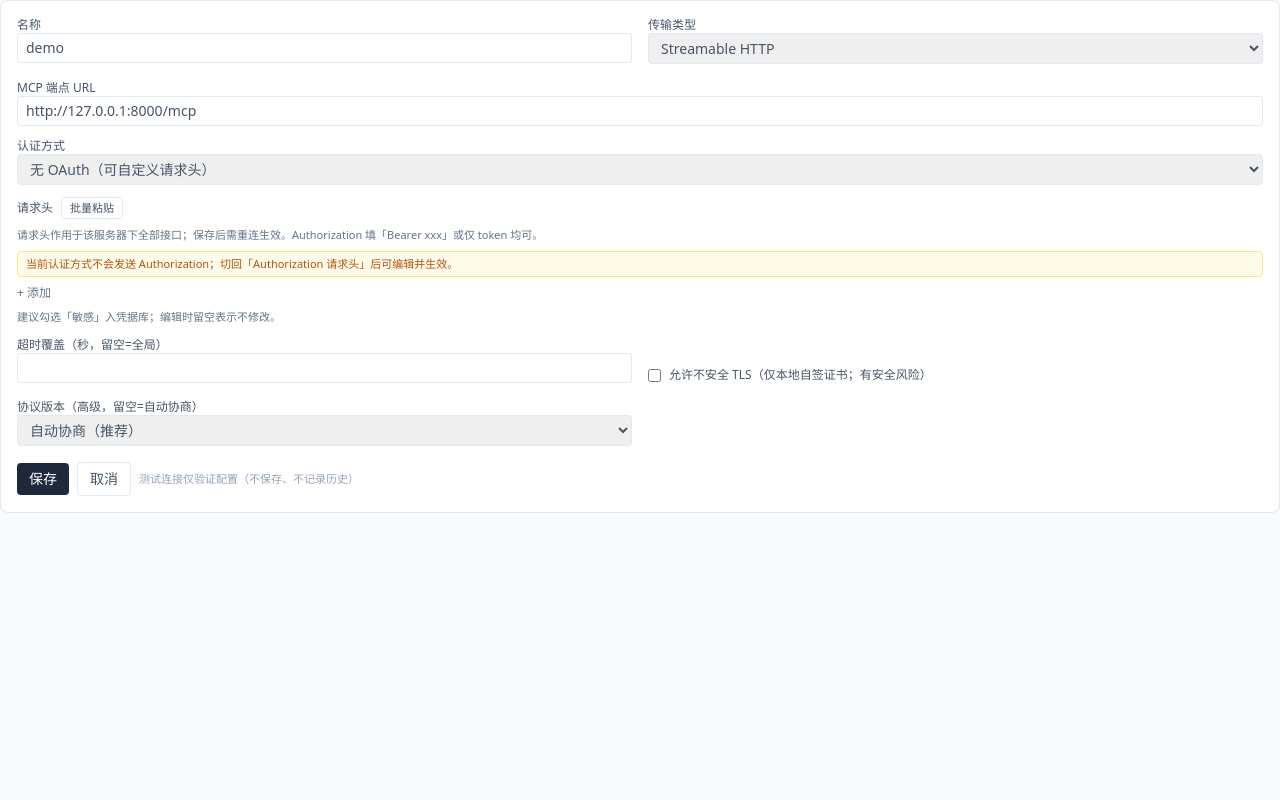
ServerForm 敏感值掩码防护（v0.1.1/v0.1.2） › 批量粘贴请求头并自动标记敏感（v0.6.1）
Step 1. Click the button "批量粘贴" → (92, 208), box [61,197,123,219]
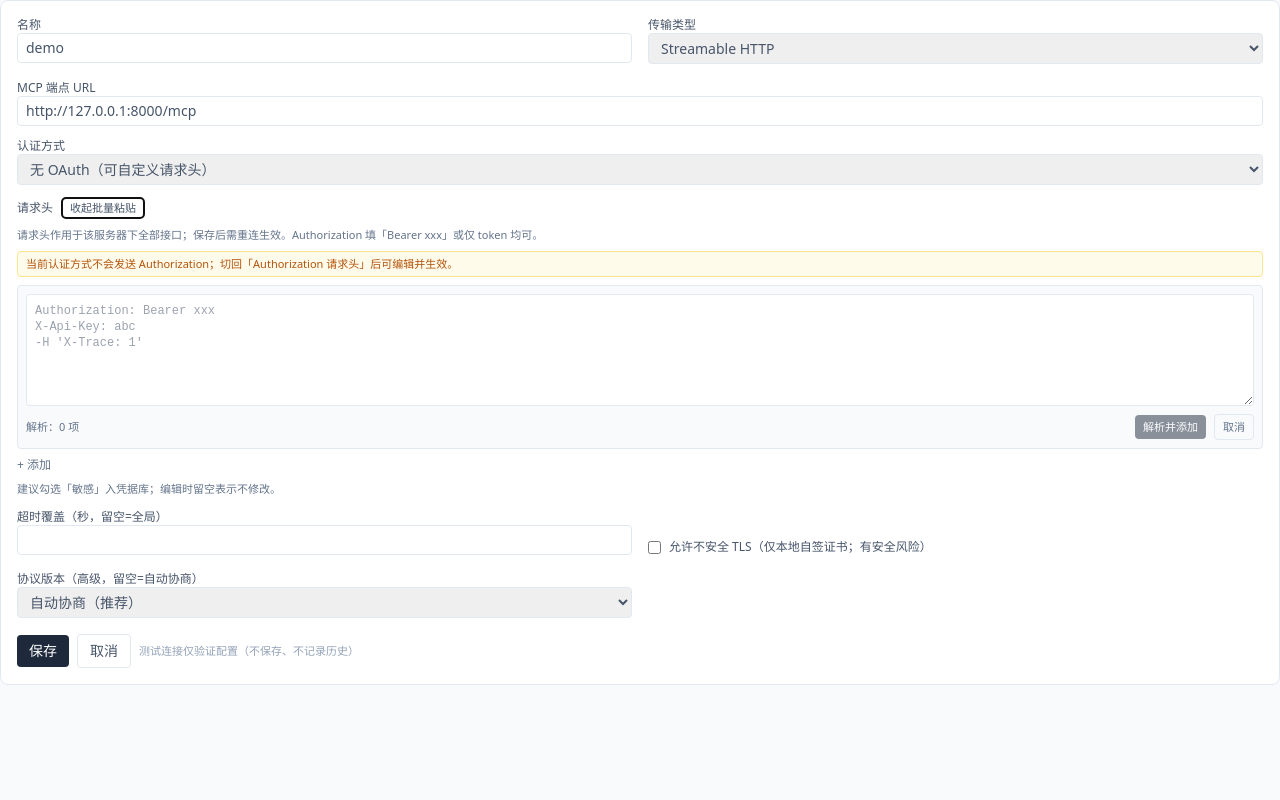
Step 2. Type "X-Api-Key: abc" into the text box named "批量粘贴请求头" → (640, 350), box [26,294,1254,406]
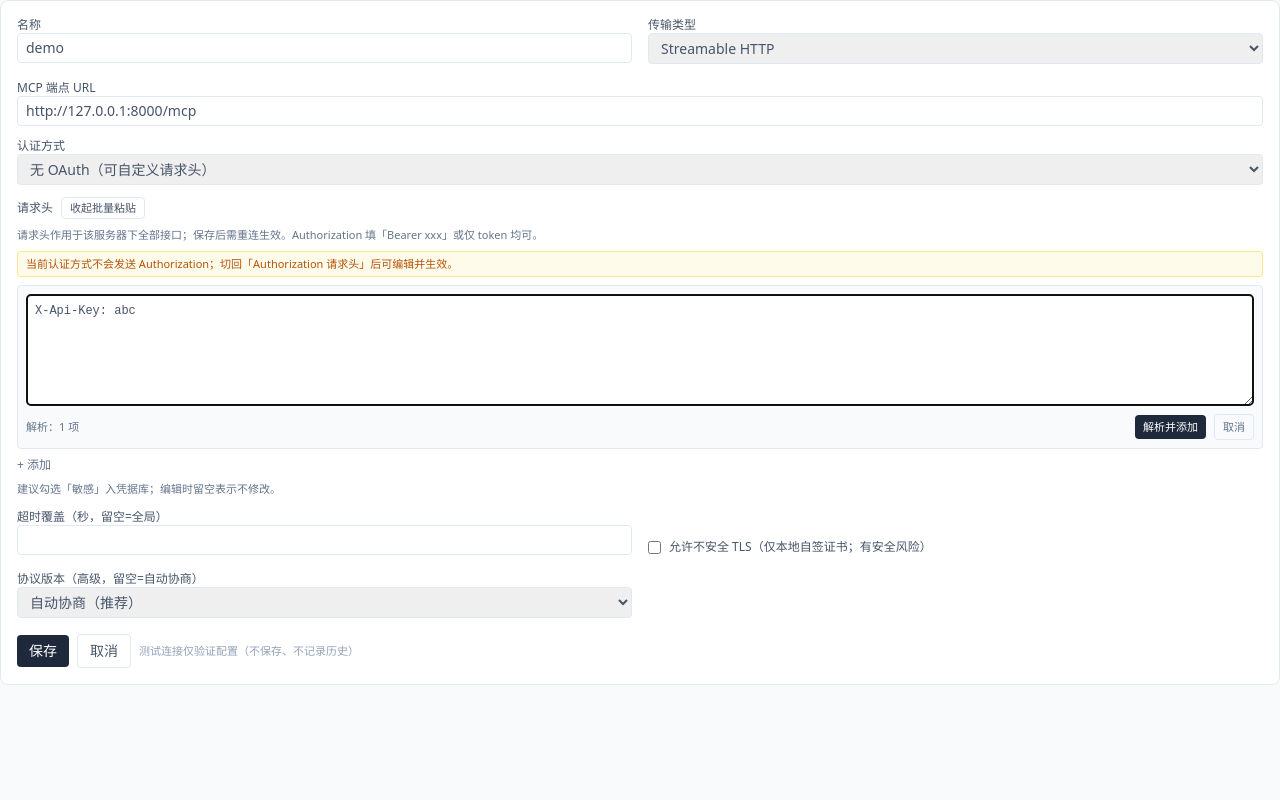
Step 3. Click the button "解析并添加" → (1170, 427), box [1135,415,1206,439]
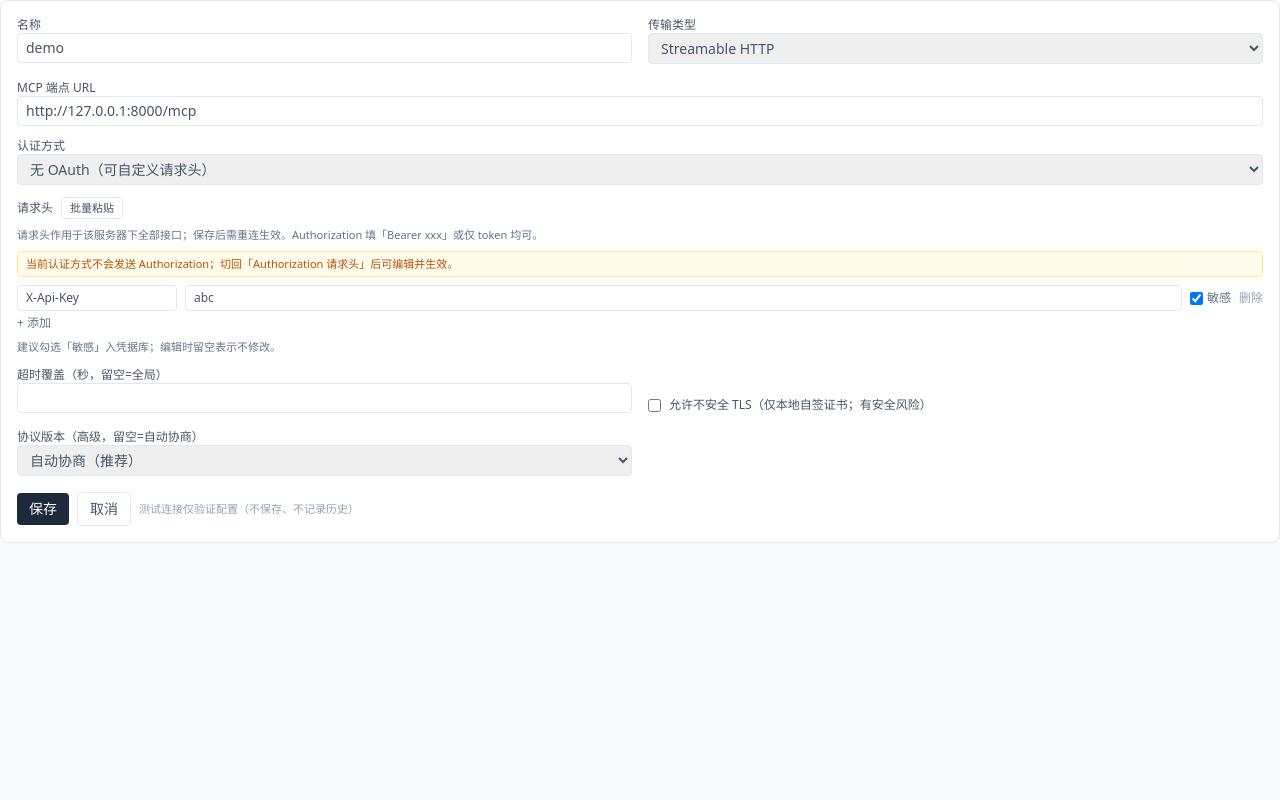
Check: the element showing "X-Api-Key" is shown, box [17,285,1263,311]
Check: the 1st field showing "X-Api-Key" is shown, box [17,285,177,311]
Check: the 2nd field showing "abc" is shown, box [185,285,1182,311]
